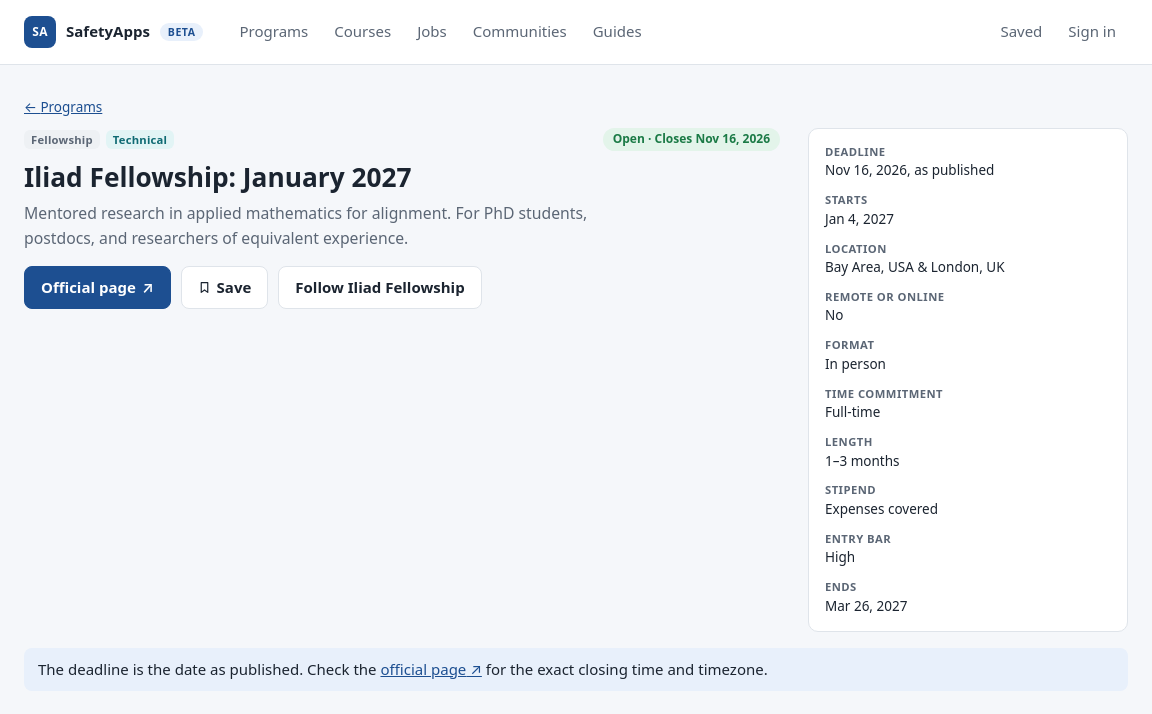
Scenario: saving and accounts › saves without an account, in this browser
What coordinates should you click on to do the following:
click the button with aria-label "Save: Iliad Fellowship: January 2027"
I would click on:
 (224, 288)
Its box is x1=181 y1=266 x2=268 y2=309.
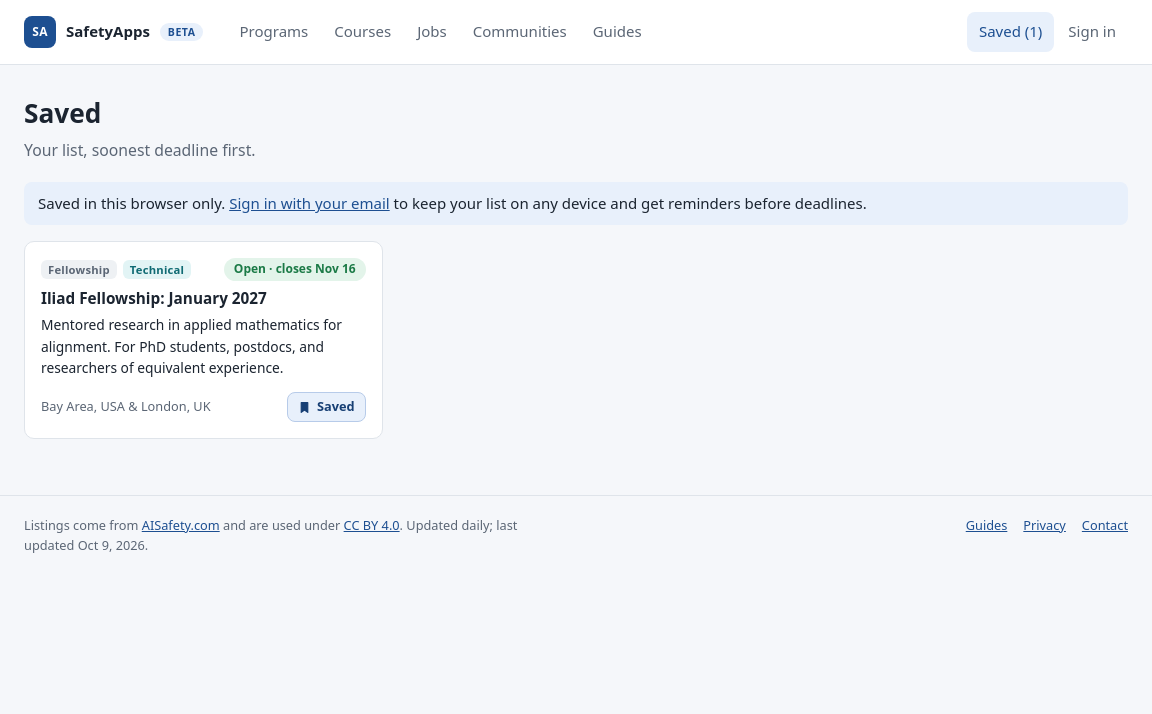
Now the text "Saved in this browser only" is shown, box x1=38 y1=193 x2=229 y2=213
